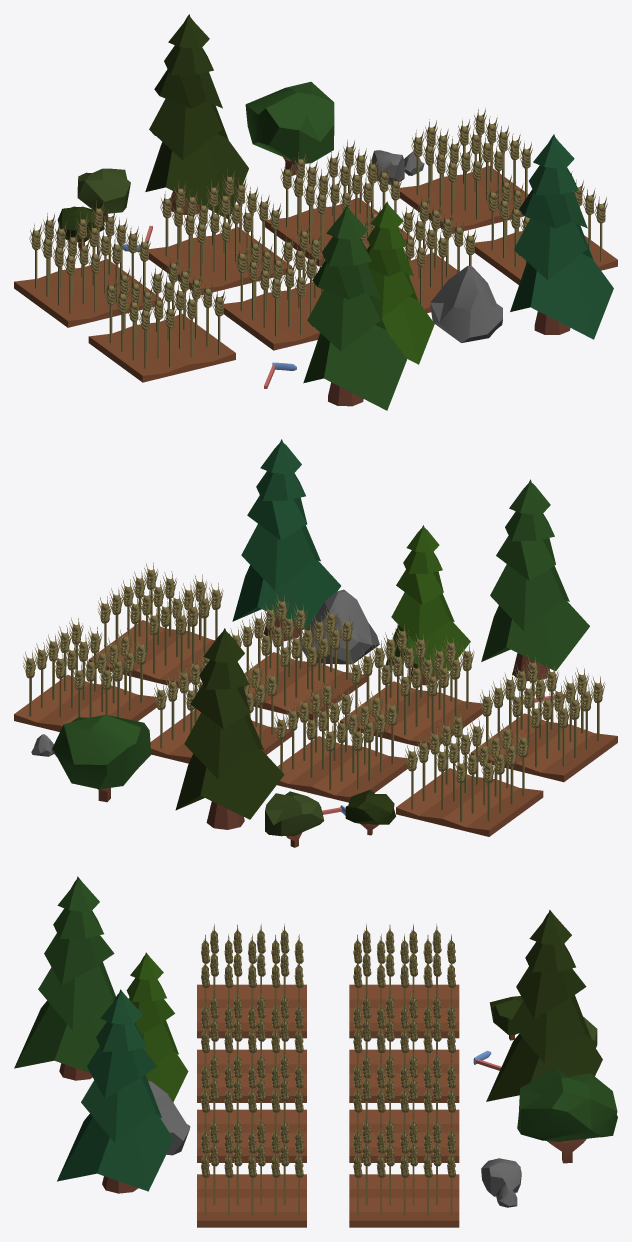
The model's file is FarmLVL2.fbx.
3 renders of one model, top to bottom at view 1: azimuth 30°, elevation 25°; view 2: azimuth 150°, elevation 25°; view 3: azimuth 270°, elevation 25°, orthographic.
Visible parts, largest first — view 1: пшеница.001, пшеница.002, ель.006, ель.005, ель.007, куст.005, ель.008, Cube.006, куст.006, куст.007, Cube.003; view 2: пшеница.001, пшеница.002, ель.007, ель.005, ель.006, куст.005, ель.008, Cube.006, куст.006, куст.007; view 3: пшеница.002, пшеница.001, ель.006, ель.005, ель.007, куст.005, ель.008, Cube.006, Cube.003, куст.007.
Part boxes in pixels (x1,y1,x2,y2): пшеница.001: (14, 169, 325, 382); пшеница.002: (265, 108, 617, 313); ель.006: (510, 134, 613, 339); ель.005: (303, 205, 406, 410); ель.007: (145, 14, 248, 218); куст.005: (245, 81, 334, 175); ель.008: (367, 201, 434, 364); Cube.006: (430, 265, 502, 342); куст.006: (77, 168, 130, 222); куст.007: (57, 206, 104, 248); Cube.003: (371, 150, 404, 184); пшеница.001: (274, 623, 617, 836); пшеница.002: (14, 562, 366, 763); ель.007: (175, 628, 284, 829); ель.005: (481, 479, 589, 680); ель.006: (232, 439, 340, 641); куст.005: (52, 715, 151, 802); ель.008: (385, 525, 470, 685); Cube.006: (302, 589, 379, 664); куст.006: (265, 791, 324, 847); куст.007: (345, 789, 395, 835); пшеница.002: (197, 1048, 459, 1227); пшеница.001: (197, 924, 459, 1102); ель.006: (57, 989, 173, 1193); ель.005: (14, 876, 115, 1080); ель.007: (486, 910, 602, 1101); куст.005: (517, 1068, 617, 1163); ель.008: (126, 952, 188, 1101); Cube.006: (148, 1080, 190, 1155); Cube.003: (481, 1158, 521, 1196); куст.007: (489, 996, 523, 1040).
Bounding box in the file's own units: 689 × 273 × 745.
